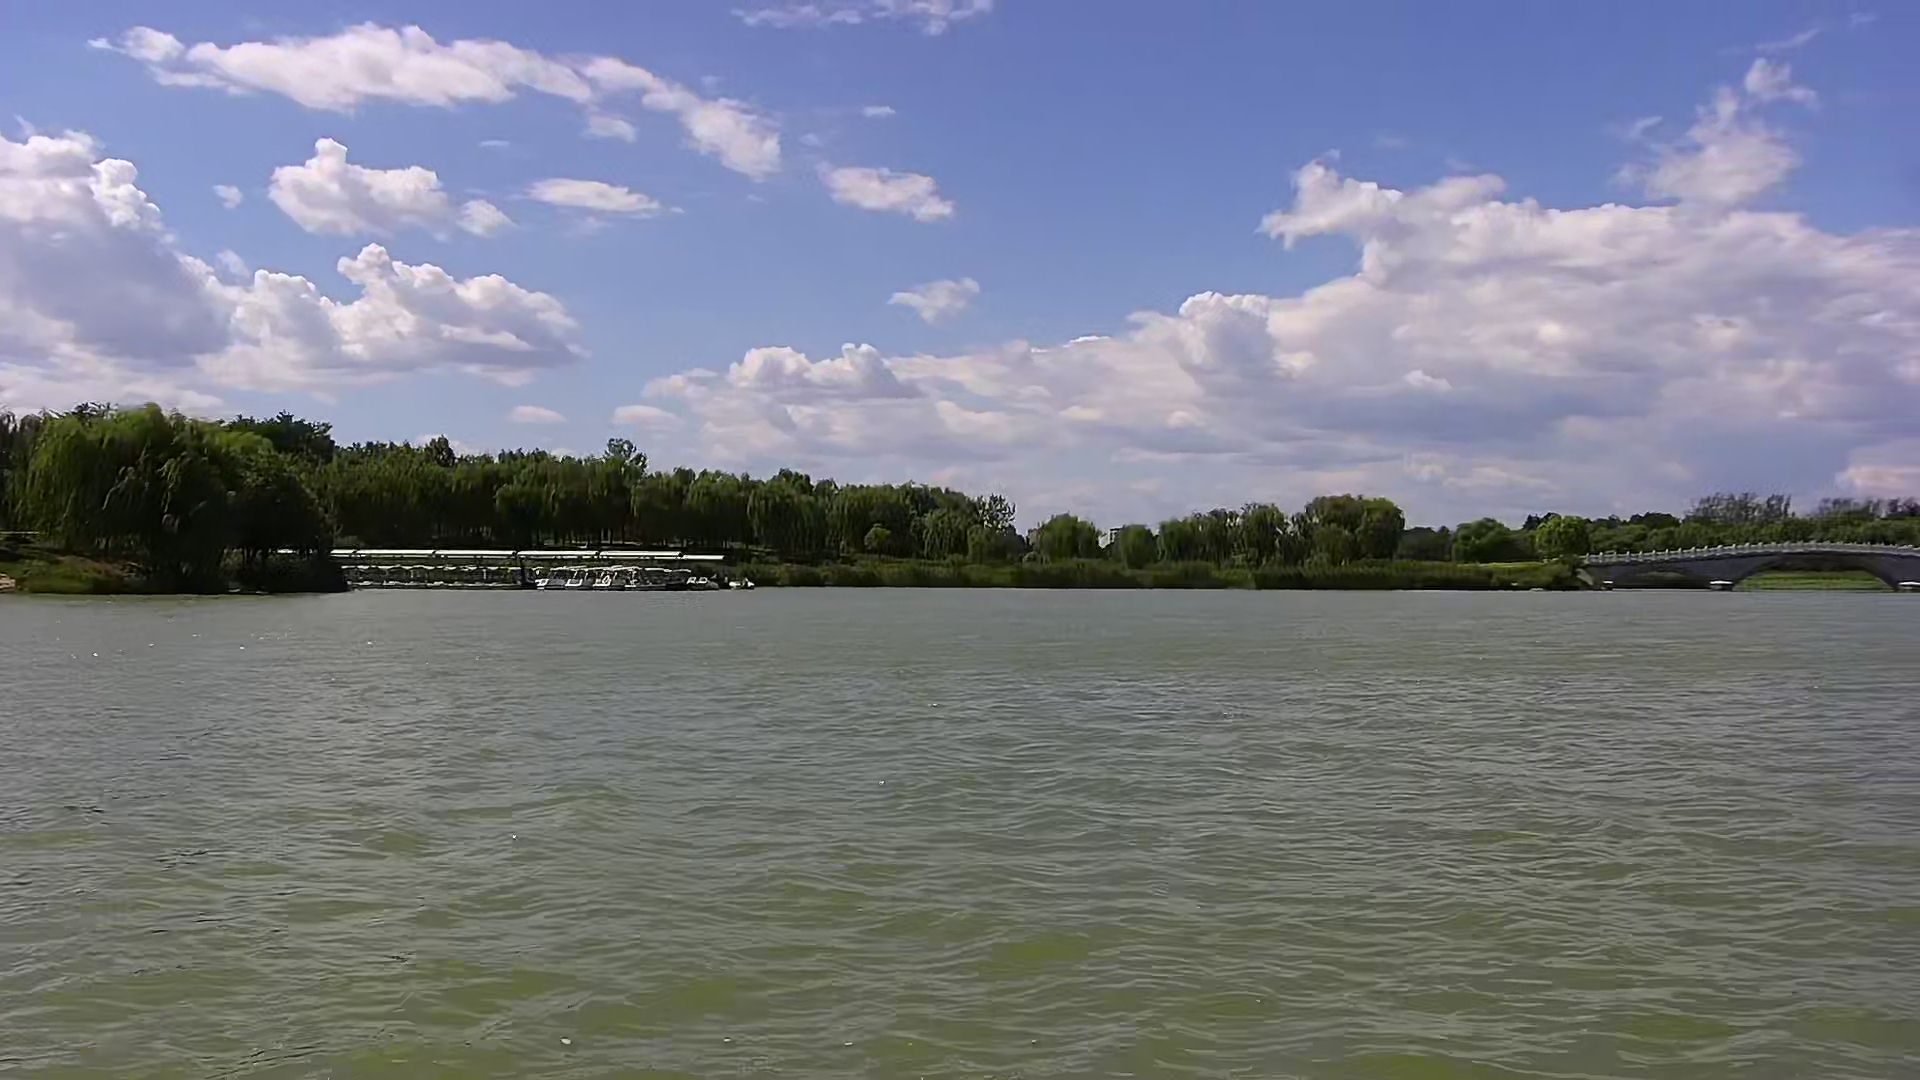bridge: (1571, 541, 1920, 597)
harbor: (338, 549, 752, 593)
